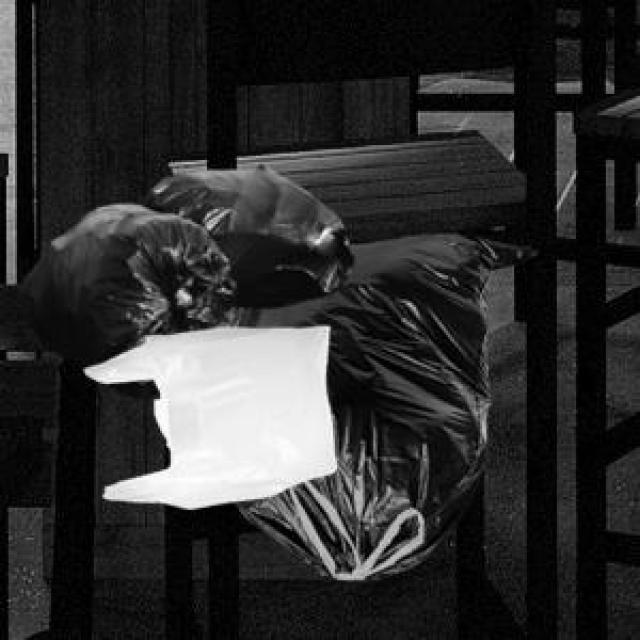miscellaneous trash: (224, 230, 531, 576), (15, 162, 350, 395)
